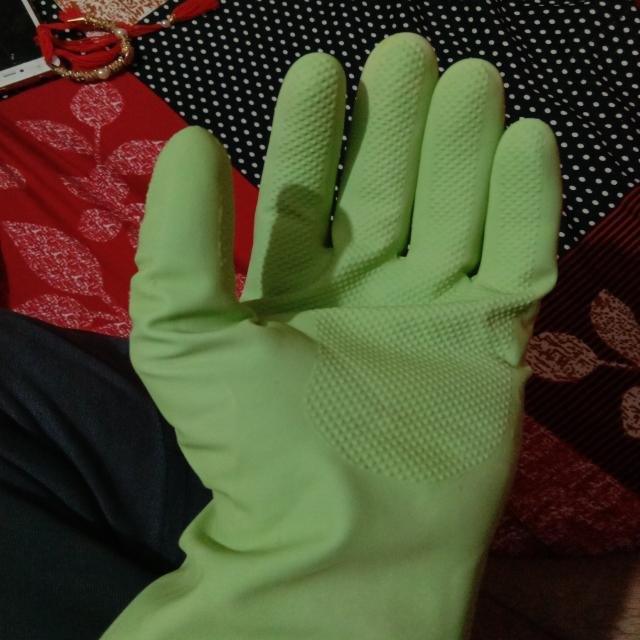glove_hand: (87, 31, 569, 637)
